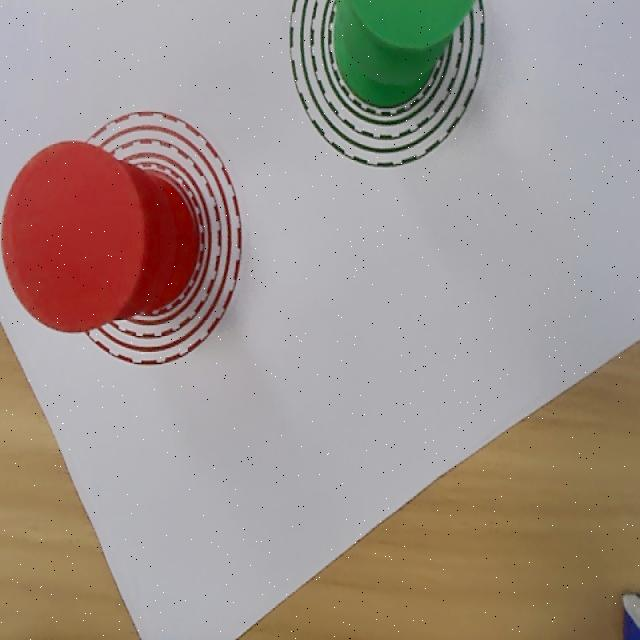r: (1, 139, 144, 333)
